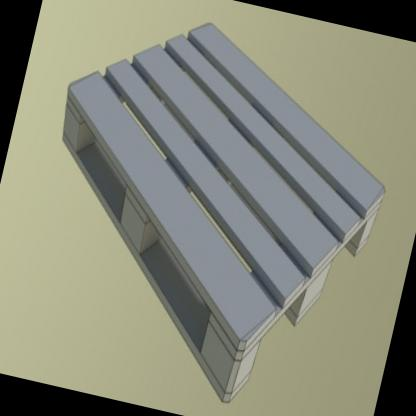BoxFace: (59, 19, 386, 408)
